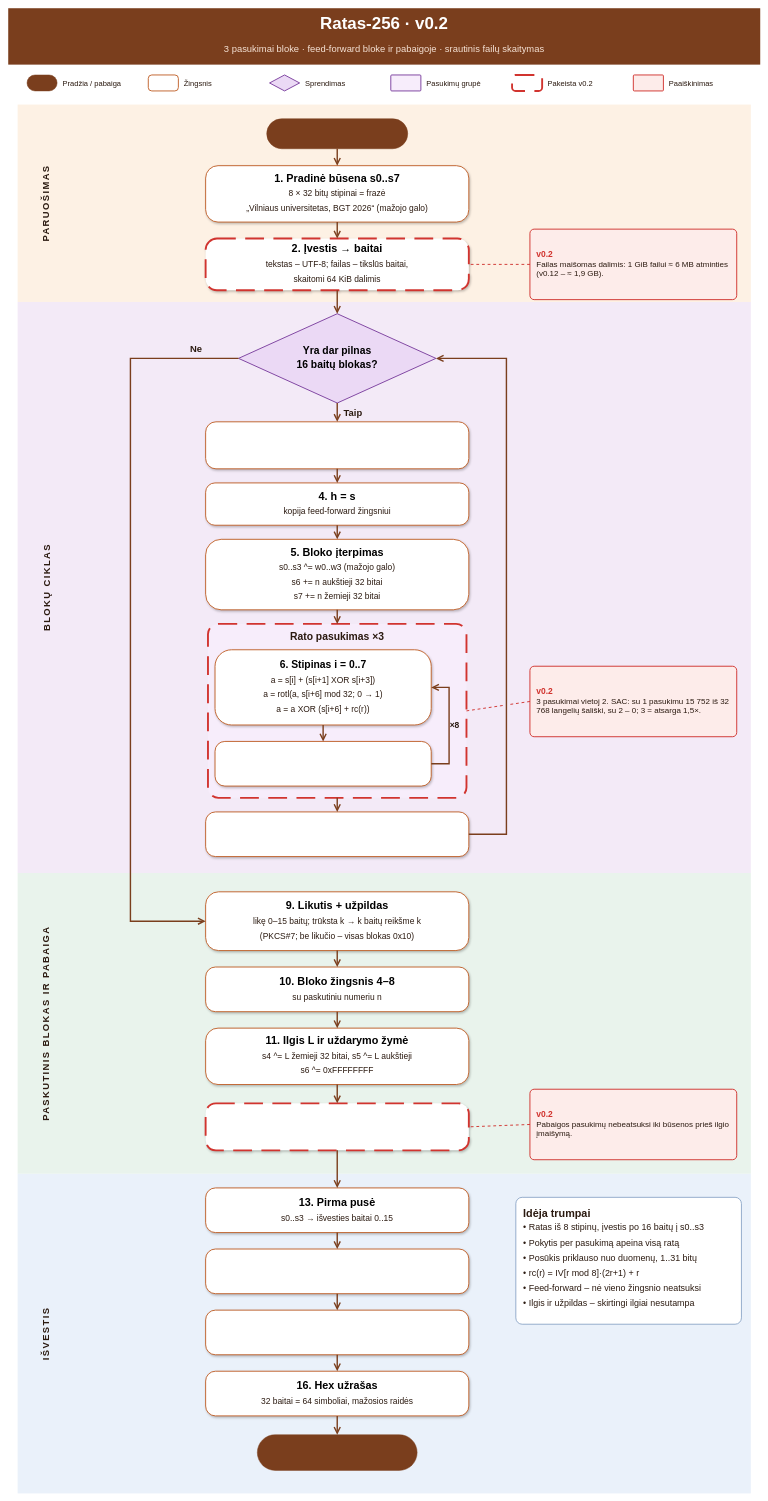
This 768x1501 diagram has some shape labels left out. Each missing label, with the centre of its shape:
12. f = s; 4 pasukimai; s += f feed-forward ir pabaigoje: point 337,1127
14. 2 pasukimai (6–7) tarp pusių – išvestis nėra visa būsena: point 337,1271
15. Antra pusė s0..s3 → išvesties baitai 16..31: point 337,1333
3. Kitas 16 baitų blokas numeris n = 1, 2, 3, … (64 bitai): point 337,445
7. Perduoti kitam stipinui s[i] = a; s[i+1] += rotl(a, 9): point 323,764
8. Feed-forward s[i] += h[i], i = 0..7: point 337,834
Maiša – 64 hex simboliai: point 337,1452
Pradžia: point 337,133
